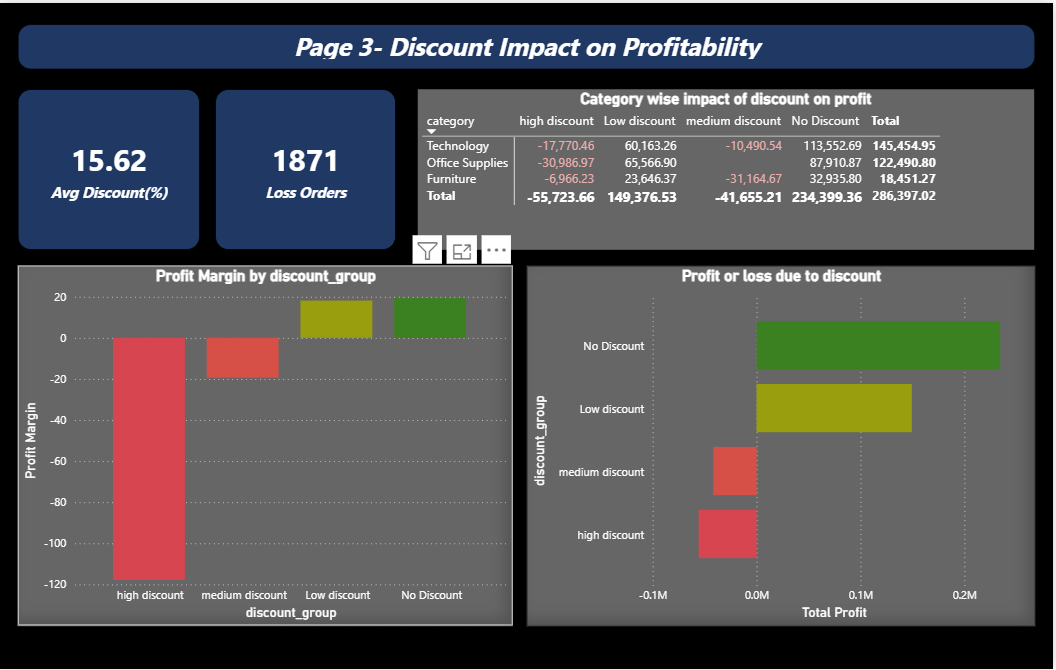

The page's visual inventory and layout, read from the dashboard file:
{"tool":"powerbi","page":{"name":"Page 3","canvas":[1140,720],"ordinal":2},"visuals":[{"type":"barChart","title":"Profit or loss due to discount","fields":{"Y":["sales_data.Total Profit"],"Category":["sales_data.discount_group"]},"box":[570,283.3,550,390],"z":0},{"type":"pivotTable","title":"Category wise impact of discount on profit","fields":{"Rows":["sales_data.category"],"Columns":["sales_data.discount_group"],"Values":["sales_data.Total Profit"]},"box":[453.3,93.3,666.7,173.3],"z":1000},{"type":"card","fields":{"Values":["sales_data.Avg Discount"]},"box":[20,93.3,196.7,173.3],"z":3000},{"type":"card","fields":{"Values":["sales_data.Loss Orders"]},"box":[233.3,93.3,195,173.3],"z":4000},{"type":"card","fields":{"Values":["sales_data.Page_3"]},"box":[20,22.5,1100,48.8],"z":5000},{"type":"columnChart","fields":{"Y":["sales_data.Profit Margin"],"Category":["sales_data.discount_group"]},"box":[20,283.3,535,390],"z":5001}]}

Visuals, with their boxes in screenshot pixels (x1, y1, x2, y2), scaled from the page's 1140x720 canvas onto the 1056x670 screenshot:
"Profit or loss due to discount" barChart: <region>528, 264, 1037, 627</region>
"Category wise impact of discount on profit" pivotTable: <region>420, 87, 1037, 248</region>
card - sales_data.Avg Discount: <region>19, 87, 201, 248</region>
card - sales_data.Loss Orders: <region>216, 87, 397, 248</region>
card - sales_data.Page_3: <region>19, 21, 1037, 66</region>
columnChart - sales_data.Profit Margin x sales_data.discount_group: <region>19, 264, 514, 627</region>
